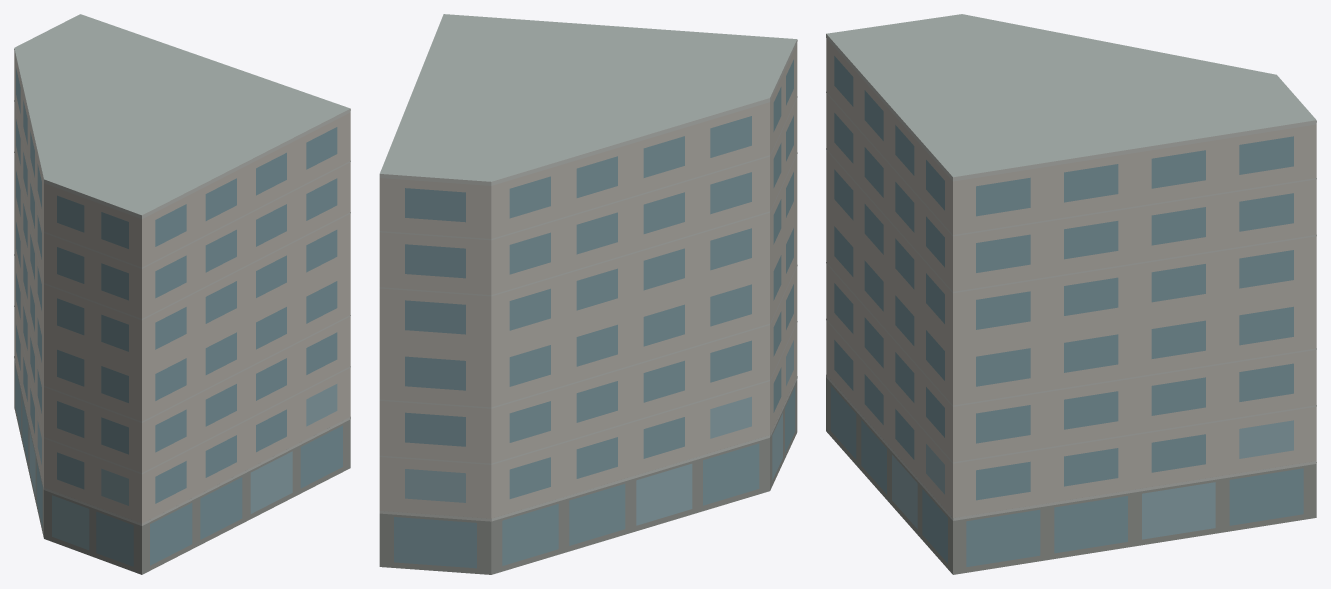
Rendered from survey-upis-32943991.glb.
3 views of the same model, side by side, from view 1: azimuth 30°, elevation 25°; view 2: azimuth 150°, elevation 25°; view 3: azimuth 270°, elevation 25° (orthographic). The views are drawn at different scales.
Visible parts, largest first — view 1: survey-upis-32943991.tmp; view 2: survey-upis-32943991.tmp; view 3: survey-upis-32943991.tmp.
Boxes of the visible parts, x1,y1,x2,y2 form: survey-upis-32943991.tmp: (14, 14, 350, 574); survey-upis-32943991.tmp: (379, 14, 797, 574); survey-upis-32943991.tmp: (826, 14, 1316, 574).
Bounding box in the file's own units: 20.34 × 23.07 × 25.82.
